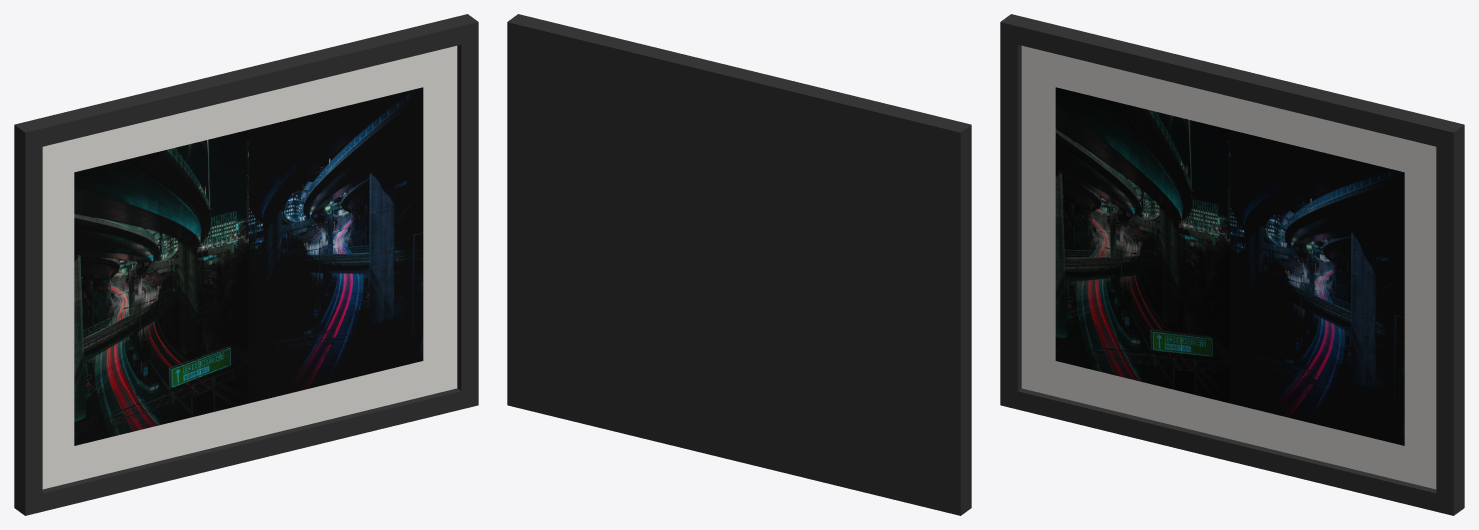
The model's file is norrtull-40.gltf.
3 renders of one model, left to right at view 1: azimuth 30°, elevation 25°; view 2: azimuth 150°, elevation 25°; view 3: azimuth 330°, elevation 25°, orthographic.
Visible parts, largest first — view 1: tavla; view 2: tavla; view 3: tavla.
Part boxes in pixels (bbox=[...]): tavla: bbox=[14, 14, 478, 515]; tavla: bbox=[507, 14, 971, 515]; tavla: bbox=[1000, 14, 1464, 515].
Size of the model in its own units: 0.52 by 0.4198 by 0.022.
Materials: 3 (1 with a texture image).
